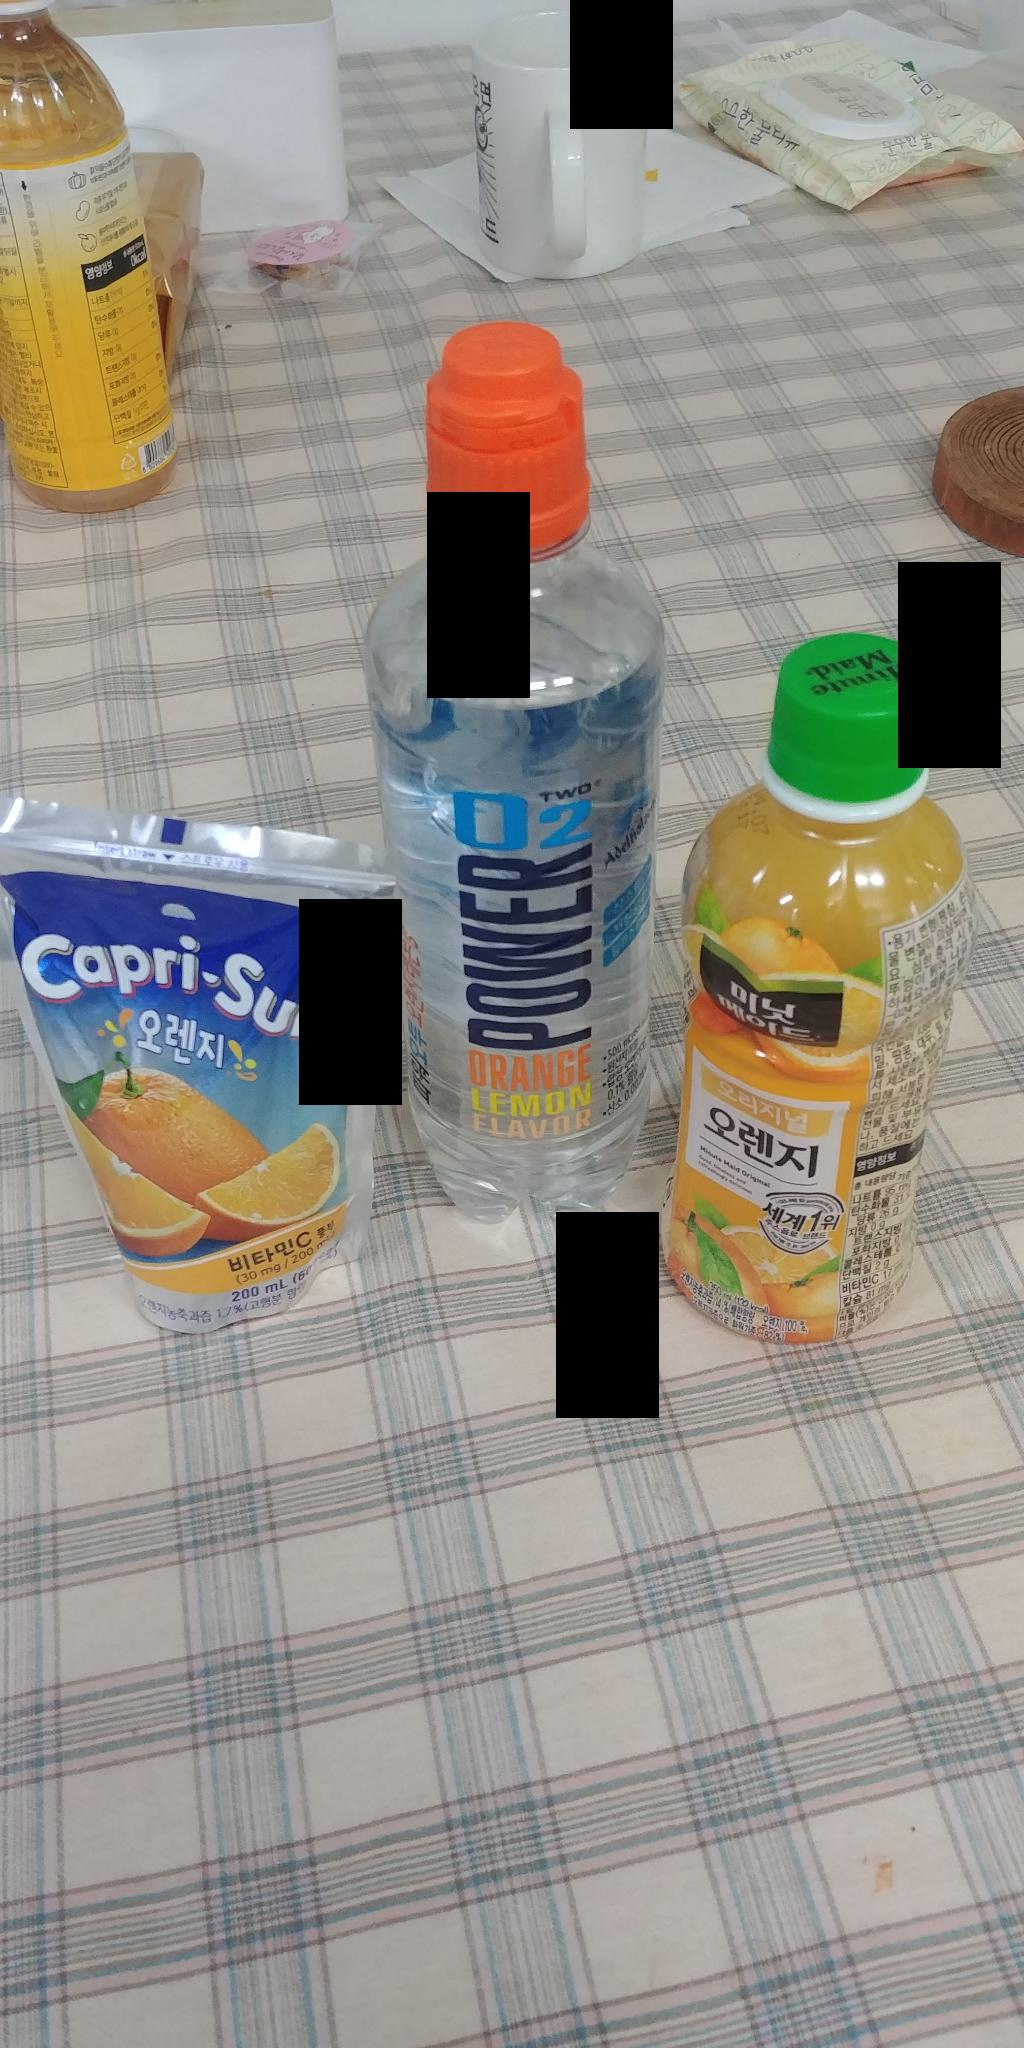cafrisun: (0, 778, 404, 1341)
minutemaid_org_orange: (654, 614, 969, 1345)
powerO2_orange: (345, 300, 680, 1236)
